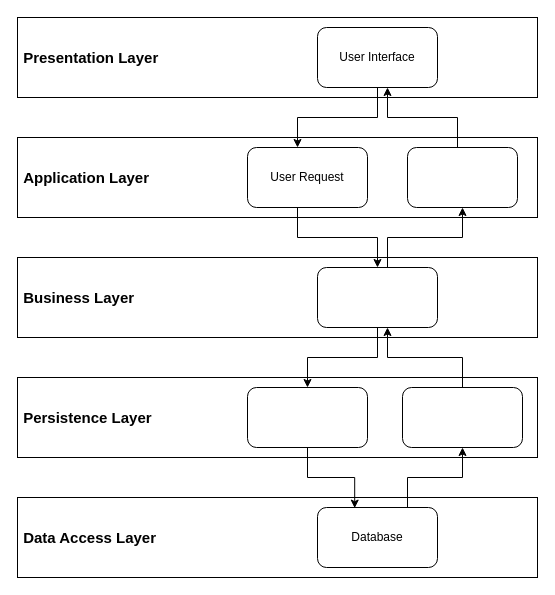
Image size: 555x595. Some labels were removed from this diagram. Here are the shapes that lost their labels. From the top down, the centre of each, then its label:
At (462,177): "Return response".
At (377,297): "Business logic & Services".
At (307,417): "Store Data".
At (462,417): "Retrieve Data".
